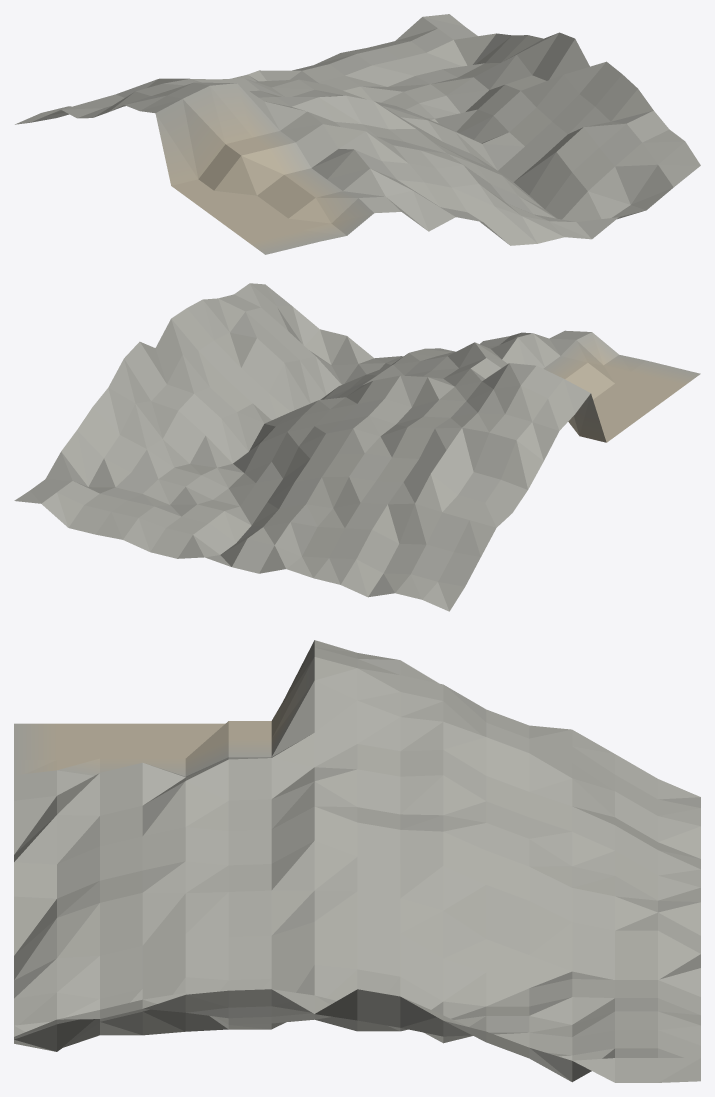
3 renders of one model, top to bottom at view 1: azimuth 30°, elevation 25°; view 2: azimuth 150°, elevation 25°; view 3: azimuth 270°, elevation 25°, orthographic. The views are drawn at different scales.
Size of the model in its own units: 32 by 10.13 by 32.
